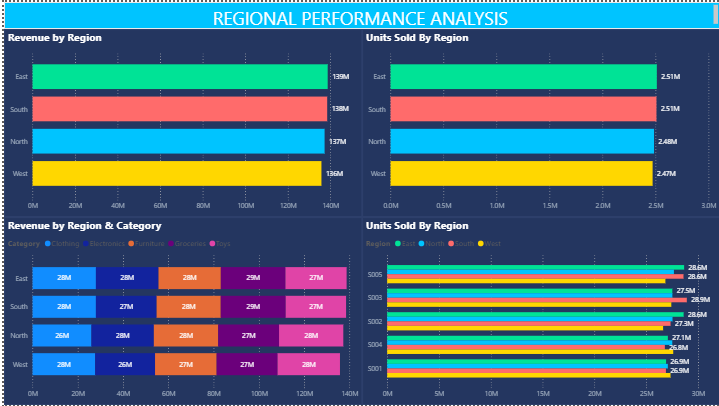

The dashboard page shown, as its layout file describes it:
{"tool":"powerbi","page":{"name":"Regional Performance","canvas":[1280,720],"ordinal":2},"visuals":[{"type":"textbox","box":[0,0,1280,48],"z":0},{"type":"clusteredBarChart","title":"Revenue by Region","fields":{"Y":["Sum(cleaned_sales_data.Revenue)"],"Category":["cleaned_sales_data.Region"]},"box":[0,48,640,336],"z":1000},{"type":"clusteredBarChart","title":"Units Sold By Region","fields":{"Category":["cleaned_sales_data.Region"],"Y":["Sum(cleaned_sales_data.Units Sold)"]},"box":[640,48,640,336],"z":2000},{"type":"barChart","title":"Revenue by Region & Category","fields":{"Category":["cleaned_sales_data.Region"],"Y":["Sum(cleaned_sales_data.Revenue)"],"Series":["cleaned_sales_data.Category"]},"box":[0,384,640,336],"z":3000},{"type":"clusteredBarChart","title":"Units Sold By Region","fields":{"Category":["cleaned_sales_data.Store ID"],"Y":["Sum(cleaned_sales_data.Revenue)"],"Series":["cleaned_sales_data.Region"]},"box":[640,384,640,336],"z":4000}]}

Visuals, with their boxes in screenshot pixels (x1, y1, x2, y2), scaled from the page's 1280x720 canvas onto the 719x406 screenshot:
textbox: 0 0 718 27
"Revenue by Region" clusteredBarChart: 0 27 360 217
"Units Sold By Region" clusteredBarChart: 360 27 718 217
"Revenue by Region & Category" barChart: 0 217 360 405
"Units Sold By Region" clusteredBarChart: 360 217 718 405
